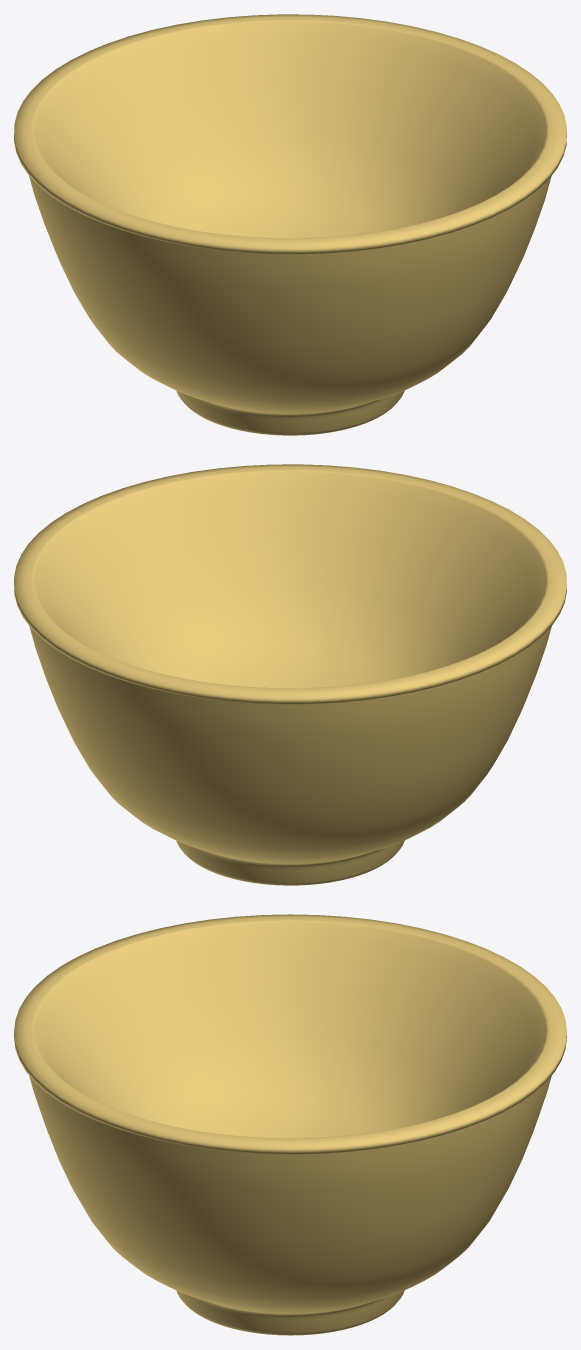
File: bowl_V4.fbx
3 views of the same model, one above another, from view 1: azimuth 30°, elevation 25°; view 2: azimuth 150°, elevation 25°; view 3: azimuth 270°, elevation 25° (orthographic).
Visible parts, largest first — view 1: bowl_V4_GEO_01; view 2: bowl_V4_GEO_01; view 3: bowl_V4_GEO_01.
Boxes of the visible parts, bbox=[...] form: bowl_V4_GEO_01: bbox=[14, 14, 566, 435]; bowl_V4_GEO_01: bbox=[14, 464, 566, 885]; bowl_V4_GEO_01: bbox=[14, 914, 566, 1335].
Size of the model in its own units: 15.61 by 8.08 by 15.61.
